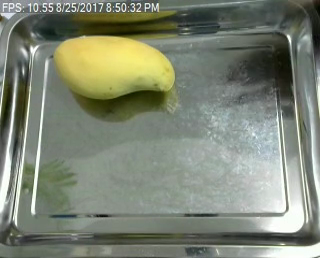Mango: (48, 30, 181, 106)
